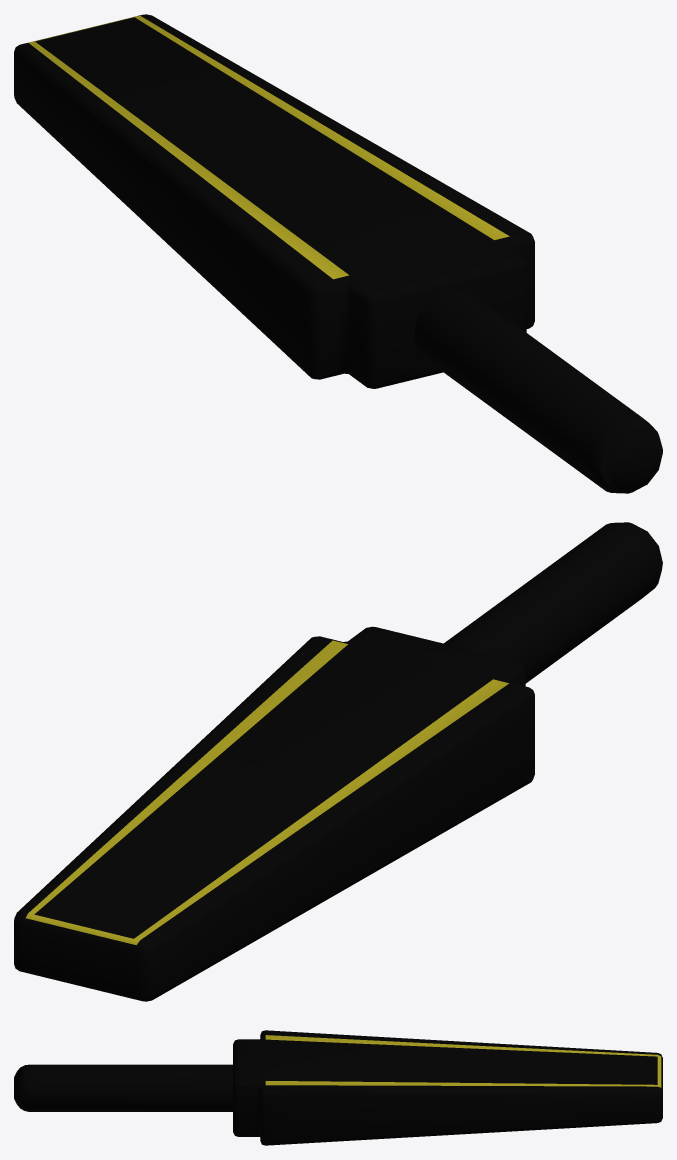
3 renders of one model, top to bottom at view 1: azimuth 30°, elevation 25°; view 2: azimuth 150°, elevation 25°; view 3: azimuth 270°, elevation 25°, orthographic. The views are drawn at different scales.
Visible parts, largest first — view 1: Cube; view 2: Cube; view 3: Cube.
Boxes of the visible parts, x1=… form: Cube: x1=14, y1=14, x2=662, y2=493; Cube: x1=14, y1=522, x2=662, y2=1001; Cube: x1=14, y1=1030, x2=662, y2=1145.
Size of the model in its own units: 9.99 by 4.1 by 43.01.
